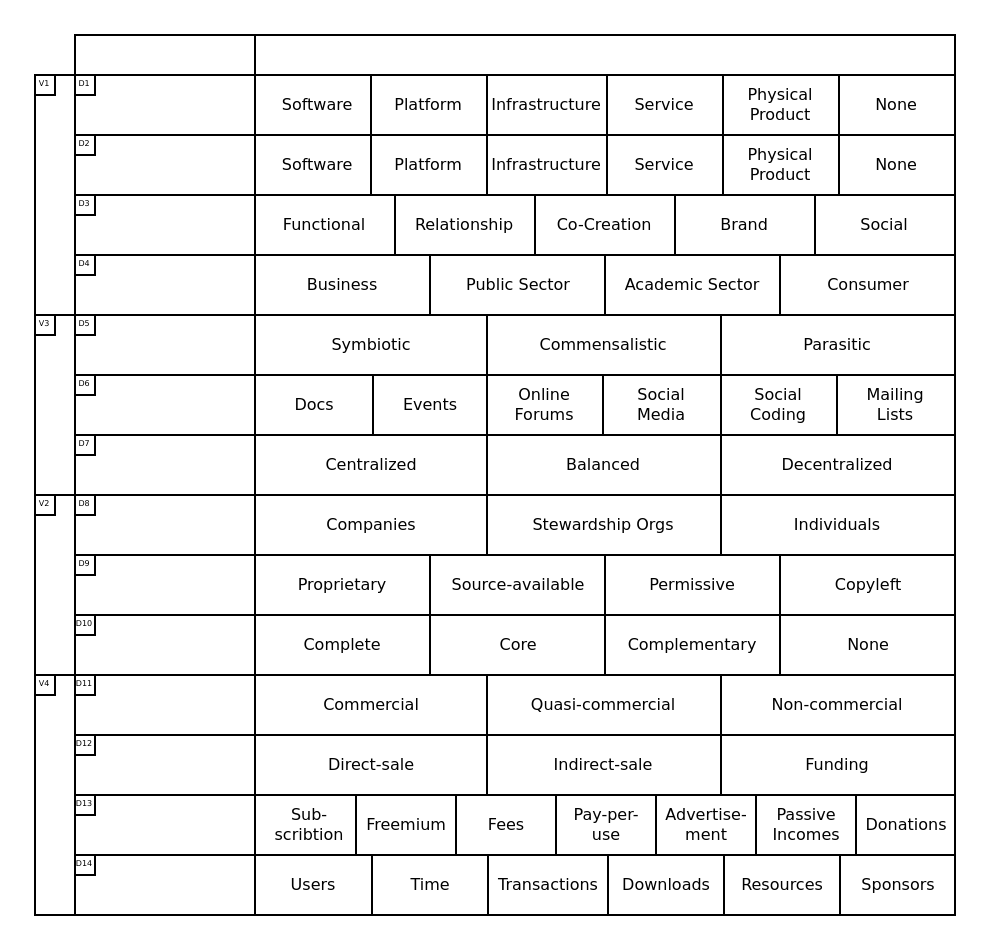
This 990x950 diagram has some shape labels left out. Each missing label, with the box of its shape:
Architecture: (33, 493, 75, 675)
Characteristic: (253, 33, 955, 75)
Commercial Offering: (73, 133, 255, 195)
Communication Channel: (73, 373, 255, 435)
Community Approach: (73, 313, 255, 375)
Customer Segment: (73, 253, 255, 315)
Customer Value: (73, 193, 255, 255)
Dimension: (73, 33, 255, 75)
Finance: (33, 673, 75, 915)
Financial Purpose: (73, 673, 255, 735)
Free Offering: (73, 73, 255, 135)
Governance Structure: (73, 433, 255, 495)
Licensing: (73, 553, 255, 615)
Network: (33, 313, 75, 495)
OSS Component: (73, 613, 255, 675)
Price Base: (73, 853, 255, 915)
Proposition: (33, 73, 75, 315)
Revenue Mechanism: (73, 733, 255, 795)
Revenue Model: (73, 793, 255, 855)
Source Code Provider: (73, 493, 255, 555)
